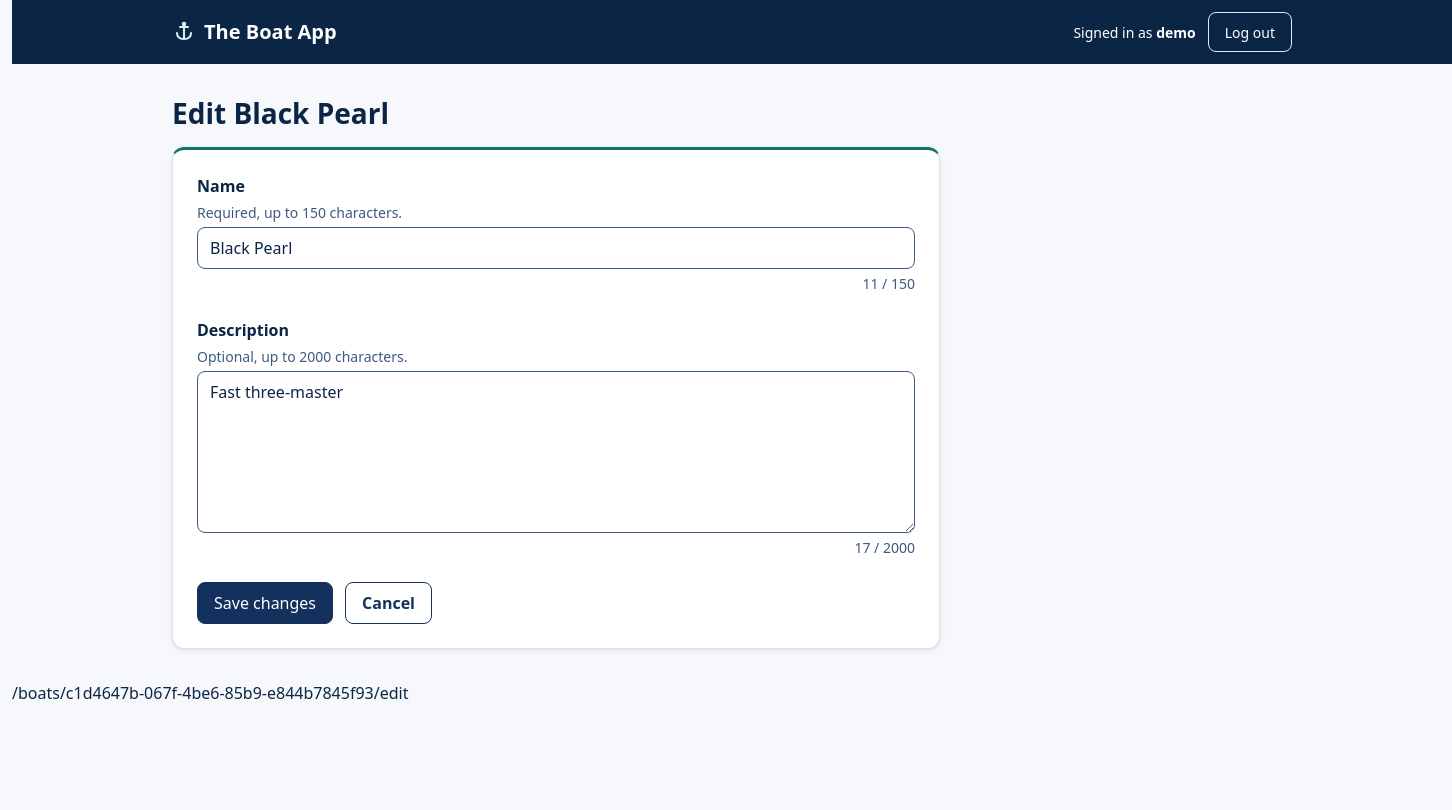
Test: EditBoatPage › explains when the boat was deleted while editing
Click the button "Save changes".
click(265, 603)  # box [197,582,333,624]
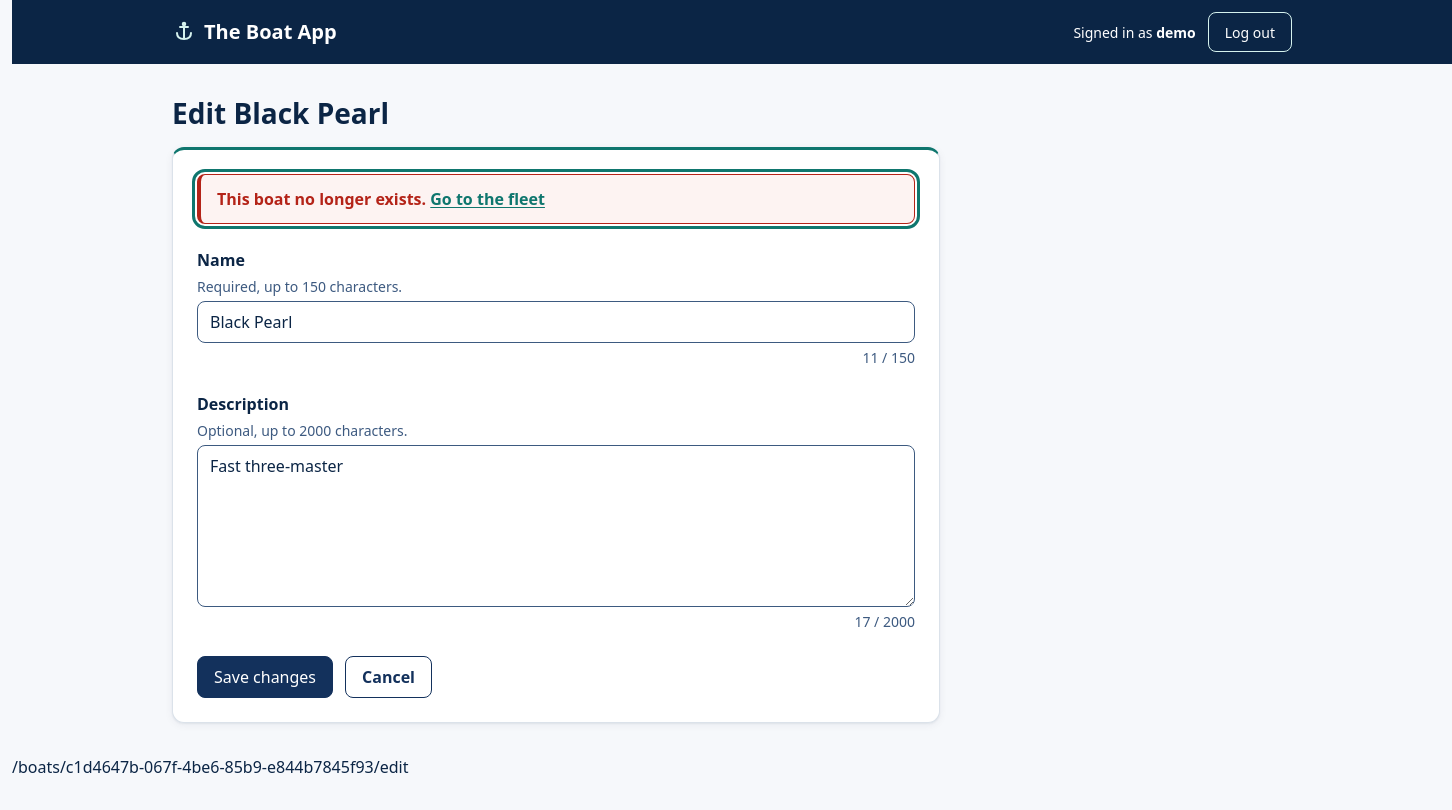
expect the message shows "This boat no longer exists.": met, box [217,188,430,210]
